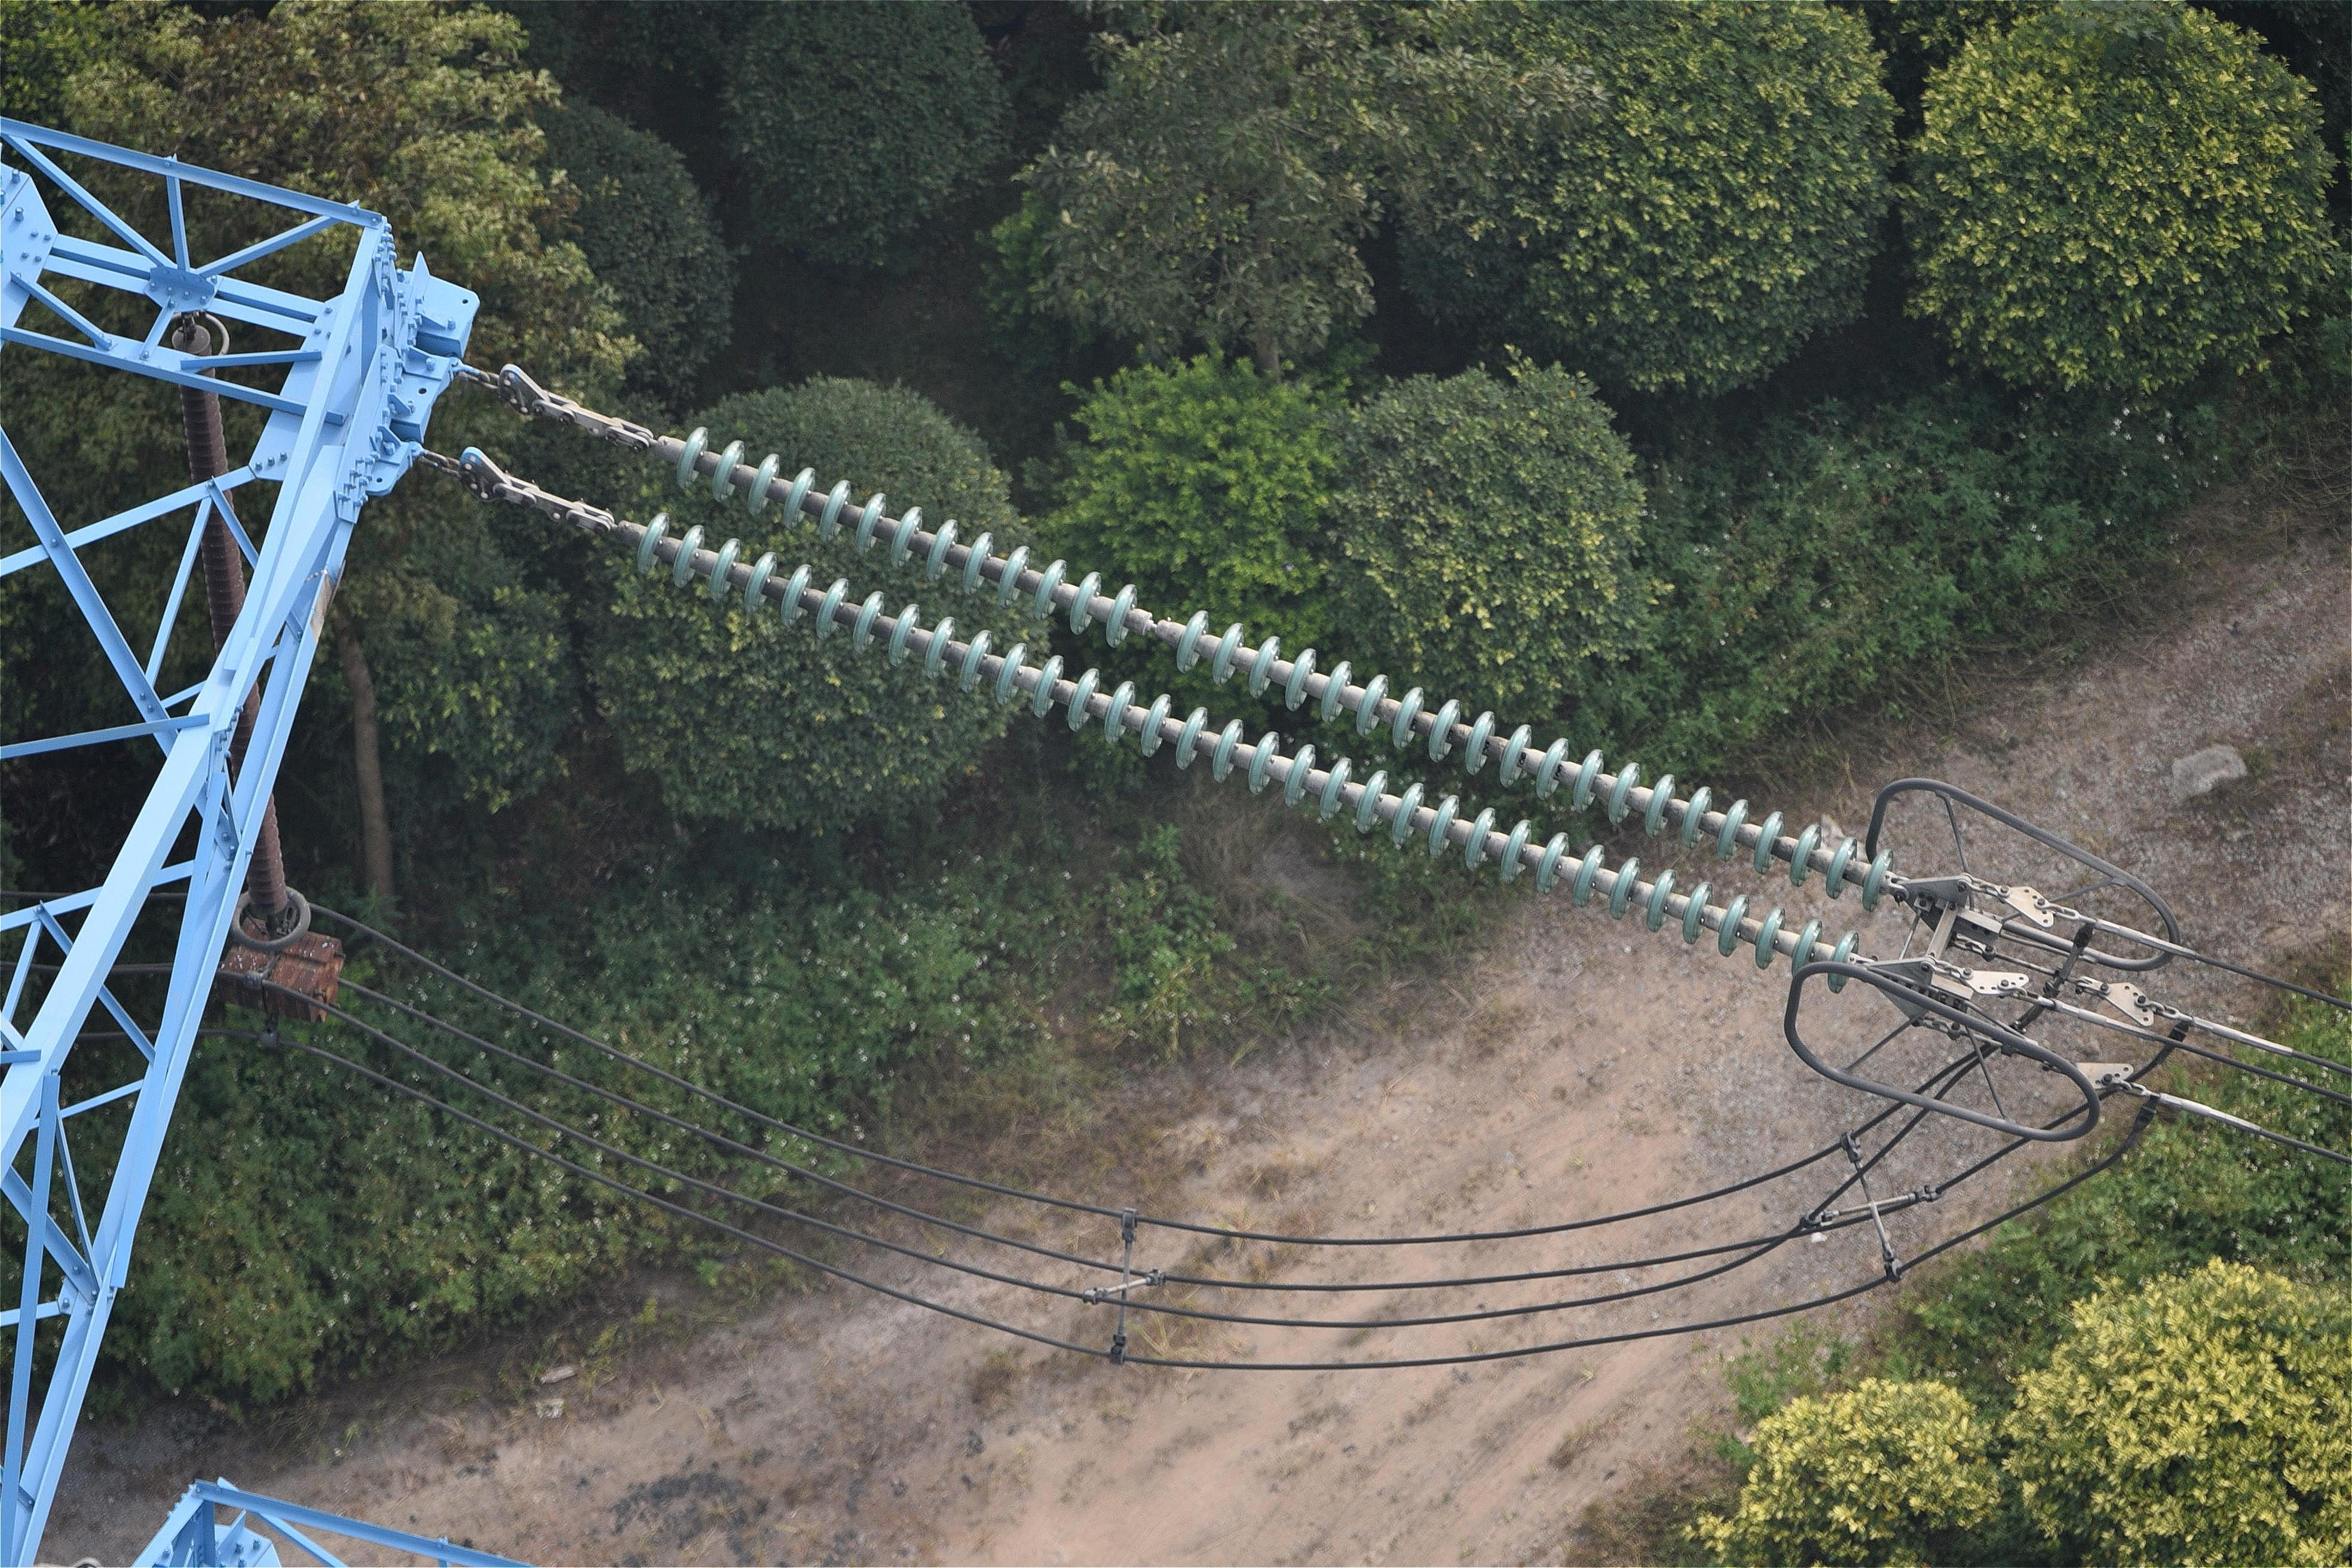insultor3: (637, 425, 1892, 990)
